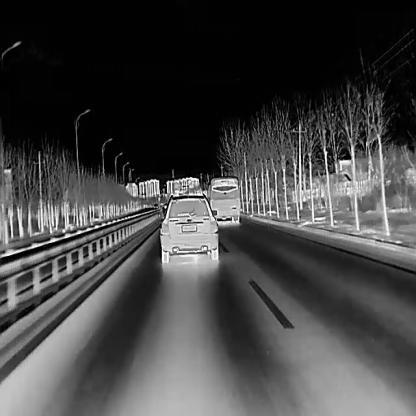car: (158, 192, 218, 263), (208, 175, 240, 223)
